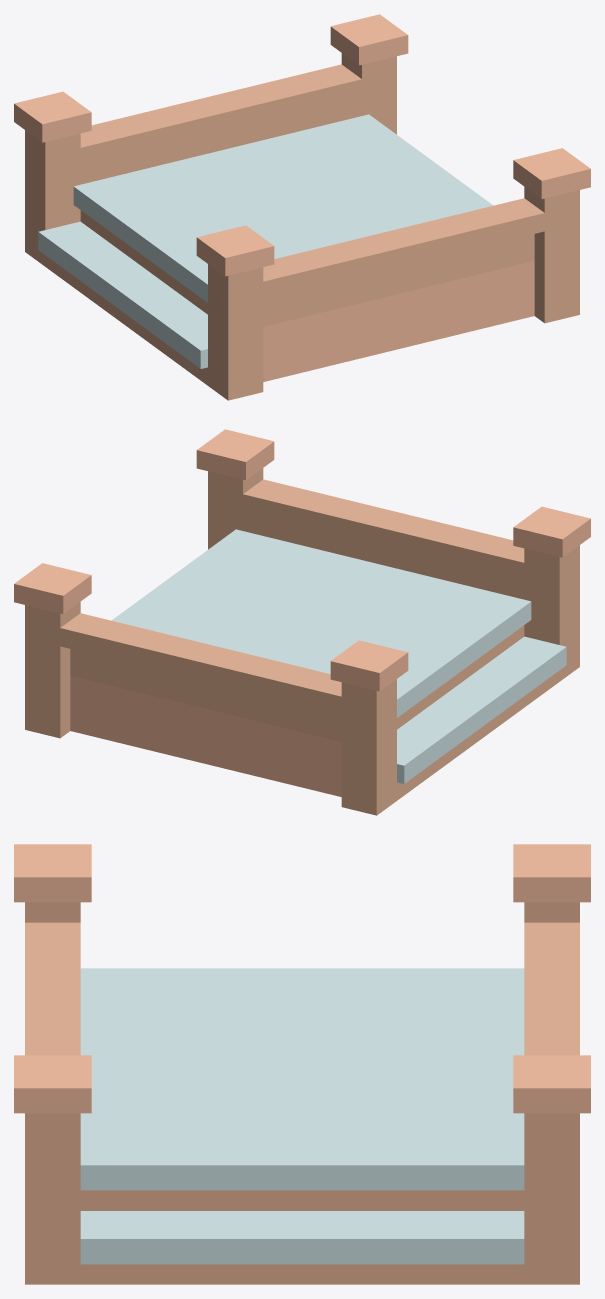
Rendered from bridge_wood.gltf.
3 renders of one model, top to bottom at view 1: azimuth 30°, elevation 25°; view 2: azimuth 150°, elevation 25°; view 3: azimuth 270°, elevation 25°, orthographic. The views are drawn at different scales.
Visible parts, largest first — view 1: bridge_wood; view 2: bridge_wood; view 3: bridge_wood.
Part boxes in pixels (x1,y1,x2,y2): bridge_wood: (14, 14, 590, 400); bridge_wood: (14, 429, 590, 815); bridge_wood: (14, 844, 590, 1284).
Bounding box in the file's own units: 1.04 × 0.4 × 1.04.
